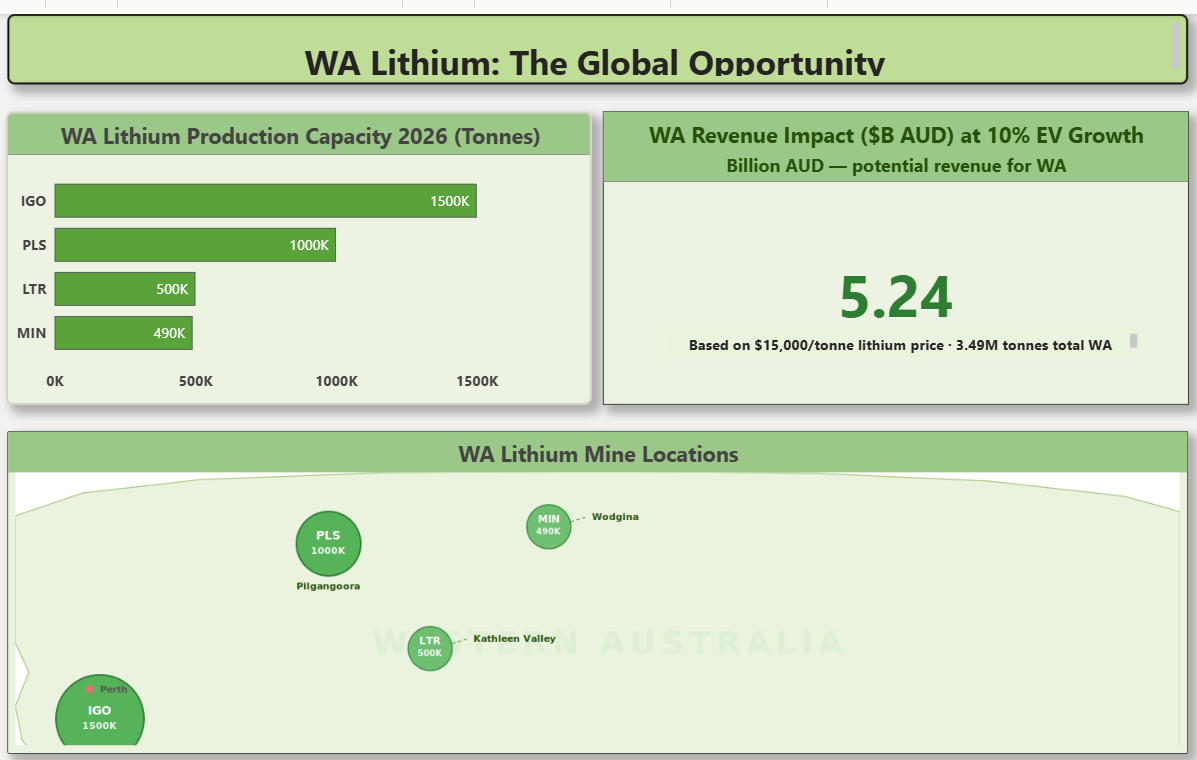

The dashboard page shown, as its layout file describes it:
{"tool":"powerbi","page":{"name":"The Opportunity","canvas":[1375,850],"ordinal":1},"visuals":[{"type":"textbox","box":[12,0,1310,78],"z":0},{"type":"clusteredBarChart","title":"WA Lithium Production Capacity 2026 (Tonnes)","fields":{"Y":["Sum(Company_Profiles.2026 Production Capacity (Est. in tonnes))"],"Category":["Company_Profiles.Ticker_Code"]},"box":[10,108,650,325],"z":1000},{"type":"card","title":"WA Revenue Impact ($B AUD) at 10% EV Growth","fields":{"Values":["Brent_Oil.EV_Revenue_Impacts"]},"box":[672,108,650,325],"z":2000},{"type":"image","title":"WA Lithium Mine Locations","box":[12,462,1310,358],"z":3000},{"type":"textbox","box":[744,350,526,32],"z":4000}]}

Visuals, with their boxes in screenshot pixels (x1, y1, x2, y2), scaled from the page's 1375x850 canvas onto the 1197x760 screenshot:
textbox: <bbox>10, 0, 1151, 70</bbox>
"WA Lithium Production Capacity 2026 (Tonnes)" clusteredBarChart: <bbox>9, 97, 575, 387</bbox>
"WA Revenue Impact ($B AUD) at 10% EV Growth" card: <bbox>585, 97, 1151, 387</bbox>
"WA Lithium Mine Locations" image: <bbox>10, 413, 1151, 733</bbox>
textbox: <bbox>648, 313, 1106, 342</bbox>
